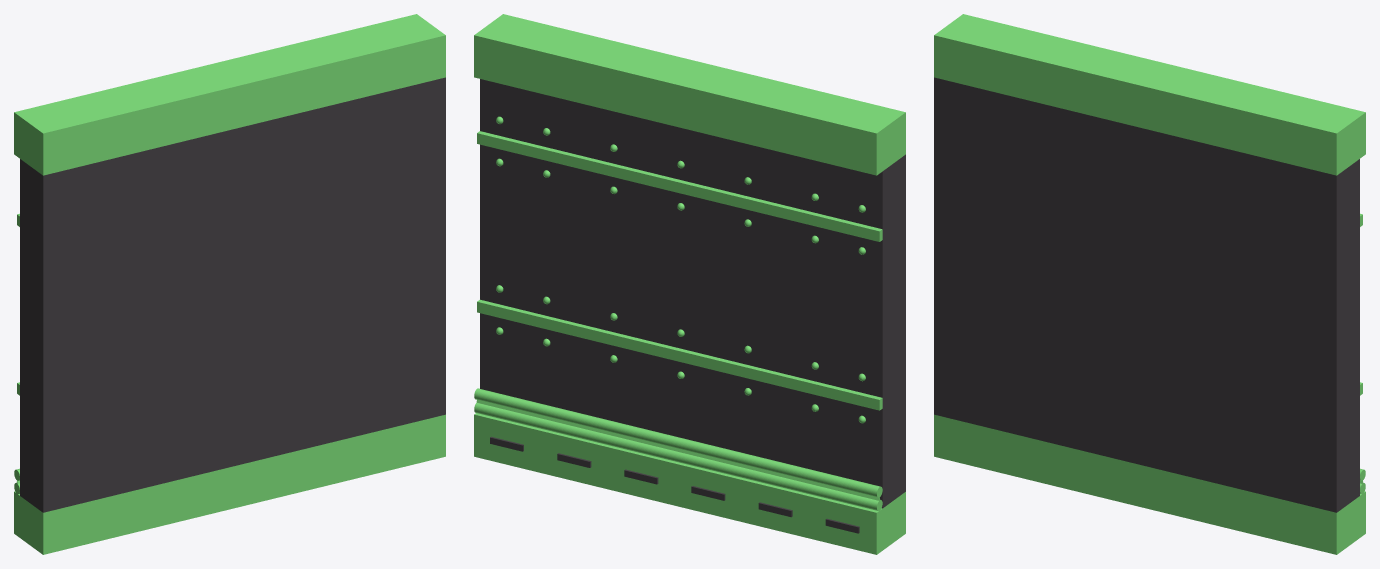
File: Wall_Basic_A.fbx
The picture shows the model from 3 angles, left to right: view 1: azimuth 30°, elevation 25°; view 2: azimuth 150°, elevation 25°; view 3: azimuth 330°, elevation 25°; orthographic projection.
Visible parts, largest first — view 1: Wall_Basic_A; view 2: Wall_Basic_A; view 3: Wall_Basic_A.
Boxes of the visible parts, x1,y1,x2,y2 form: Wall_Basic_A: [14, 14, 445, 554]; Wall_Basic_A: [474, 14, 905, 554]; Wall_Basic_A: [934, 14, 1365, 554].
Bounding box in the file's own units: 200 × 200 × 26.
